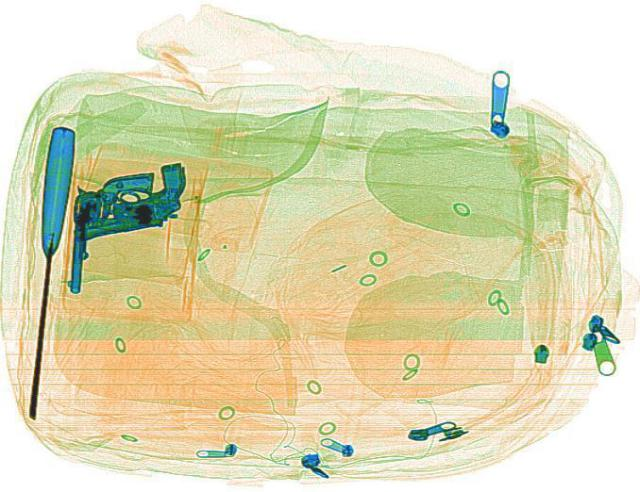Gun: (60, 159, 200, 237), (68, 166, 152, 292)
Knife: (14, 124, 76, 415)
